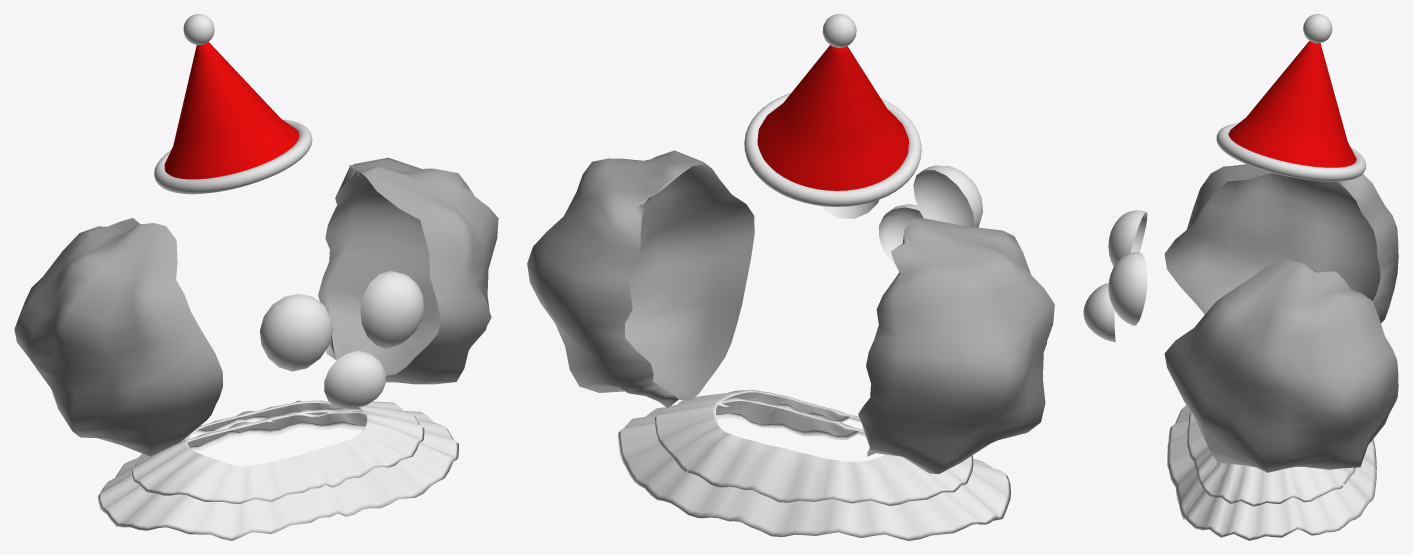
File: palyaco.fbx
3 renders of one model, left to right at view 1: azimuth 30°, elevation 25°; view 2: azimuth 150°, elevation 25°; view 3: azimuth 270°, elevation 25°, orthographic. The views are drawn at different scales.
Visible parts, largest first — view 1: saclar, boyunluk, polySurface4, gozz, goz, polySurface5, burun, polySurface3; view 2: saclar, boyunluk, polySurface4, polySurface5, gozz, burun, polySurface3; view 3: saclar, boyunluk, polySurface4, polySurface5, goz, gozz, burun, polySurface3.
Boxes of the visible parts, x1,y1,x2,y2 form: saclar: [14, 157, 498, 456]; boyunluk: [97, 400, 458, 540]; polySurface4: [164, 42, 298, 179]; gozz: [260, 294, 332, 371]; goz: [360, 271, 424, 348]; polySurface5: [154, 119, 312, 194]; burun: [324, 351, 385, 409]; polySurface3: [183, 14, 214, 44]; saclar: [527, 150, 1054, 474]; boyunluk: [618, 389, 1010, 540]; polySurface4: [757, 45, 908, 190]; polySurface5: [744, 93, 921, 206]; gozz: [913, 165, 982, 227]; burun: [879, 204, 923, 263]; polySurface3: [822, 14, 856, 47]; saclar: [1164, 164, 1398, 472]; boyunluk: [1167, 405, 1376, 540]; polySurface4: [1228, 41, 1356, 167]; polySurface5: [1216, 123, 1366, 181]; goz: [1108, 252, 1147, 325]; gozz: [1108, 210, 1147, 266]; burun: [1083, 283, 1115, 342]; polySurface3: [1303, 14, 1332, 43].
Size of the model in its own units: 111 by 112 by 73.1.
